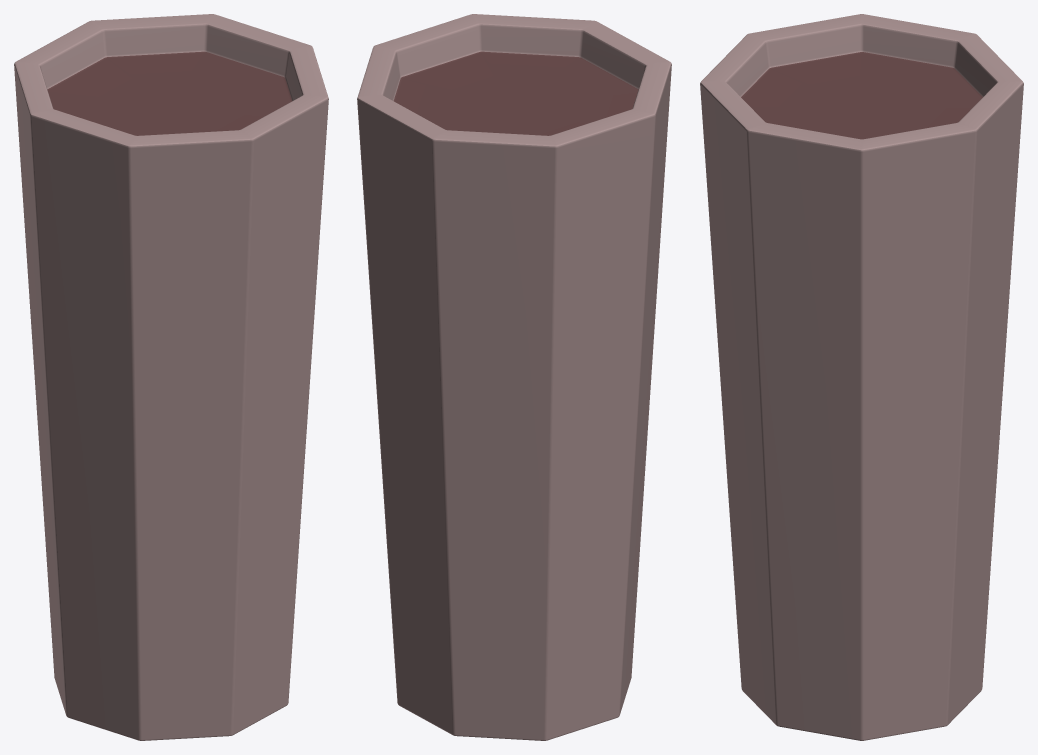
Rendered from Vase8.fbx.
3 views of the same model, side by side, from view 1: azimuth 30°, elevation 25°; view 2: azimuth 150°, elevation 25°; view 3: azimuth 270°, elevation 25° (orthographic).
Visible parts, largest first — view 1: Vase8; view 2: Vase8; view 3: Vase8.
Boxes of the visible parts, left/top/right/bottom form: Vase8: left=14, top=14, right=328, bottom=740; Vase8: left=357, top=14, right=671, bottom=740; Vase8: left=700, top=14, right=1023, bottom=740.
Bounding box in the file's own units: 1.99 × 4.14 × 1.99.
